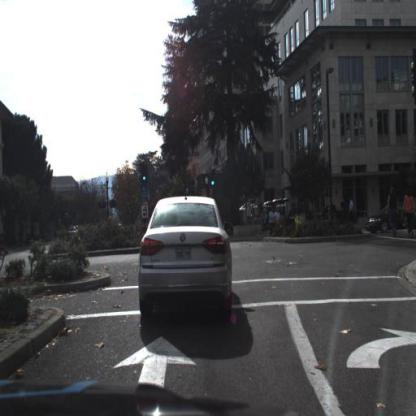car: (137, 192, 233, 317), (370, 198, 416, 231)
pedestrian: (386, 187, 402, 242), (404, 188, 416, 241), (348, 197, 358, 237), (340, 199, 347, 235), (275, 209, 281, 238), (270, 208, 274, 237)
trafficLight: (141, 161, 149, 185)
trafficLight-Green: (211, 169, 216, 190)
